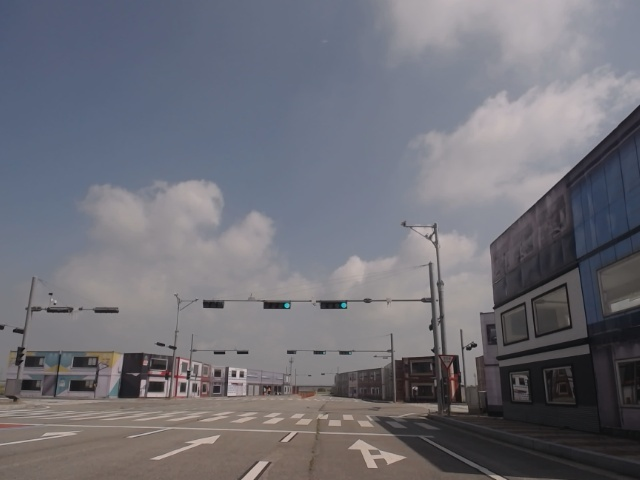straight_green_4: (263, 301, 292, 311), (318, 299, 347, 308)
